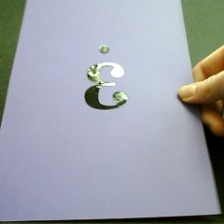violet3: (79, 42, 135, 118)
